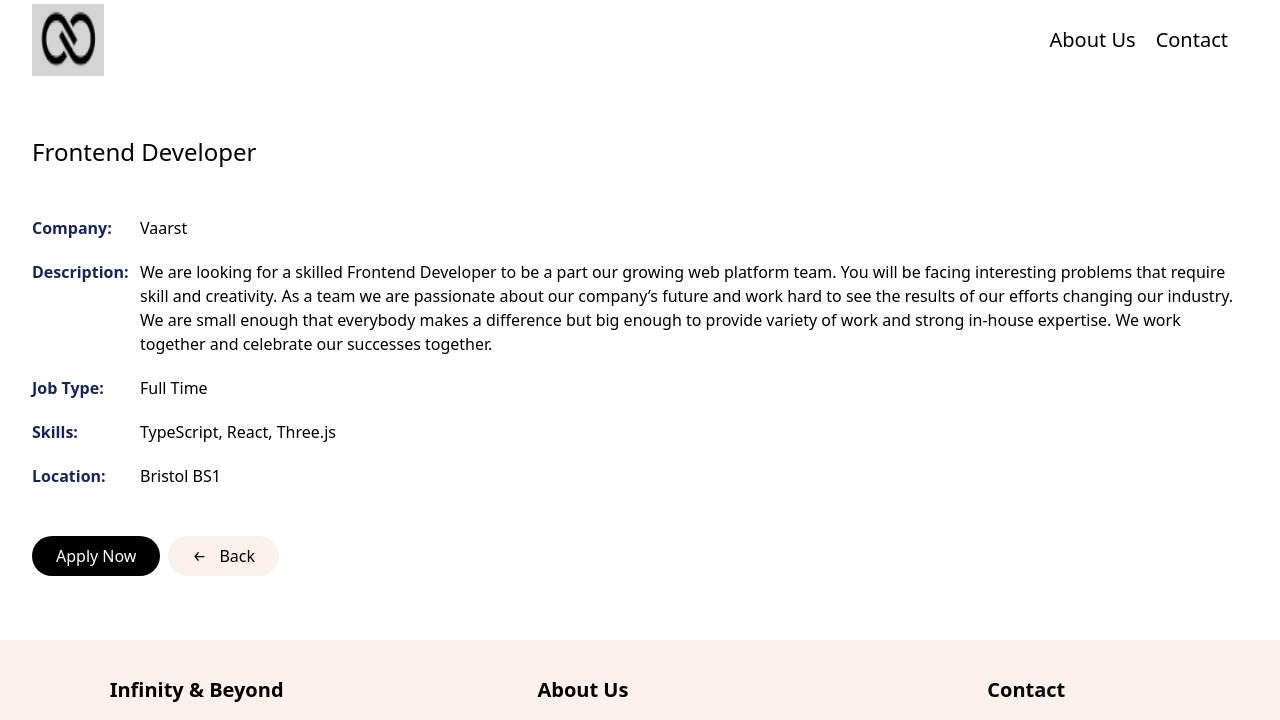
it: Home Page › should close the modal when the backdrop is clicked
The width and height of the screenshot is (1280, 720).
Click the button "Apply Now" at [96, 556], box [32,536,160,576]
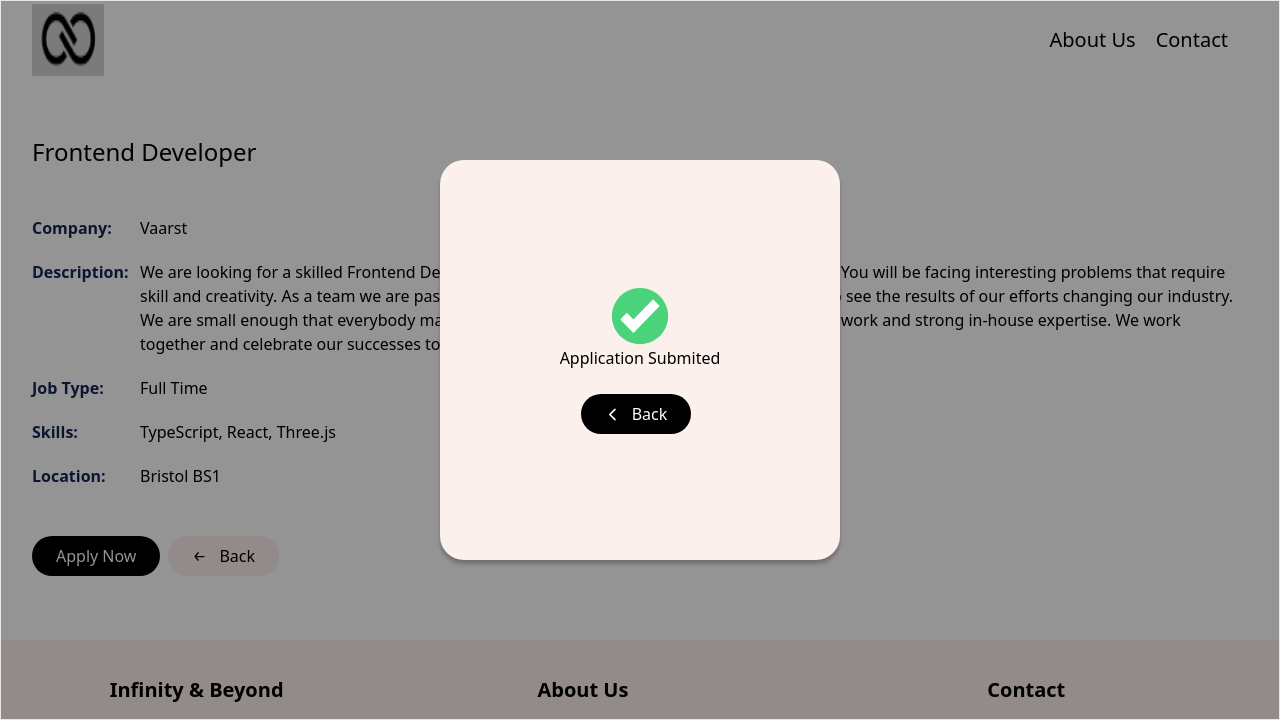
Expected: the element with test id "main-modal" is shown, [440,160,840,560]
Expected: the element with test id "modal-underlay" is shown
Press the mouse on the element with test id "modal-underlay" at [640, 360], box [0,0,1279,719]
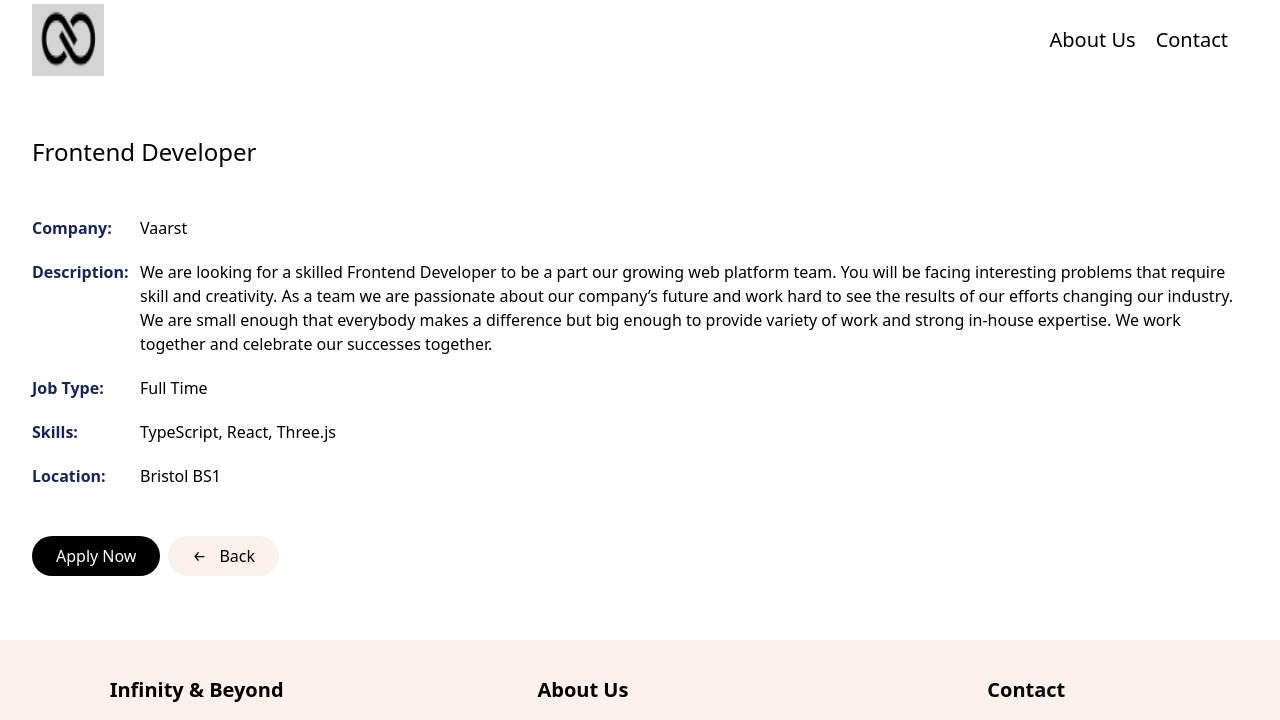
Expected: the element with test id "main-modal" is gone
Expected: the element with test id "modal-underlay" is gone
